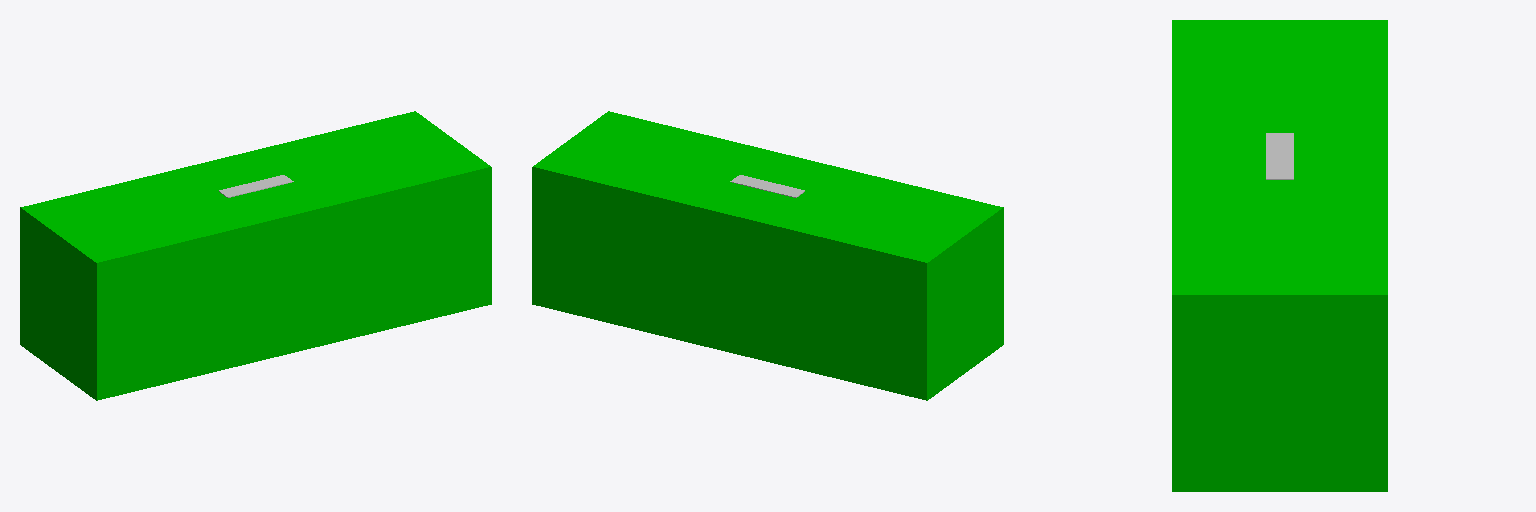
robot.urdf — brick_green:
<?xml version="1.0"?>

<robot name="brick_green">

  <material name = "Green">
    <color rgba="0 0.8 0 1.0"/>
  </material>

  <material name = "Gray">
    <color rgba="0.8 0.8 0.8 1.0"/>
  </material>

  <link name="base_link">
    <inertial>
      <origin xyz="0 0 0.5" rpy="0 0 0" />
      <mass value="1"/>
      <inertia ixx="100" ixy="0" ixz="0" iyy ="100" iyz = "0" izz = "100" />
    </inertial>
    <visual>
      <geometry>
        <box size="0.6 0.2 0.2"/>
      </geometry>
      <material name="Green"/>
    </visual>
    <collision>
      <origin xyz="0 0 0" rpy="0 0 0" />
      <geometry>      
        <box size = "0.6 0.2 0.2"/>  
      </geometry>
    </collision>
  </link>

  <link name="magnet_patch">
    <visual>
      <geometry>
        <box size="0.1 0.025 0.001"/>
      </geometry>
      <material name="Gray"/>
    </visual>
    <collision>
      <origin xyz="0 0 0" rpy="0 0 0" />
      <geometry>
        <box size="0.1 0.025 0.0005"/>
      </geometry>
    </collision>
  </link>

  <joint name="patch_joint" type="fixed">
    <origin xyz="0.0 0.0 0.101" rpy="0 0 0"/>
    <parent link="base_link"/>
    <child link="magnet_patch"/>
  </joint>

  <gazebo reference="base_link">
    <material>Gazebo/Green</material>
  </gazebo>
  <gazebo reference="magnet_patch">
    <material>Gazebo/Gray</material>
  </gazebo>

</robot>
    

--- Facts derived from the render (not from the file) ---
Views: 3 orthographic renders of the robot side by side, from view 1: azimuth 30°, elevation 25°; view 2: azimuth 150°, elevation 25°; view 3: azimuth 270°, elevation 25°.
Robot: brick_green — 2 links, 1 joints (1 fixed); root link base_link; default pose: all joints at 0.
Visible links, largest first — view 1: base_link, magnet_patch; view 2: base_link, magnet_patch; view 3: base_link, magnet_patch.
Boxes of the visible links, x1=… form: base_link: x1=20, y1=111, x2=491, y2=400; magnet_patch: x1=219, y1=175, x2=293, y2=197; base_link: x1=532, y1=111, x2=1003, y2=400; magnet_patch: x1=730, y1=175, x2=804, y2=197; base_link: x1=1172, y1=20, x2=1387, y2=491; magnet_patch: x1=1266, y1=133, x2=1293, y2=179.
Size in the robot's own frame: 0.6 by 0.2 by 0.2015 metres.
Geometry: primitives only (box / cylinder / sphere), no mesh files.